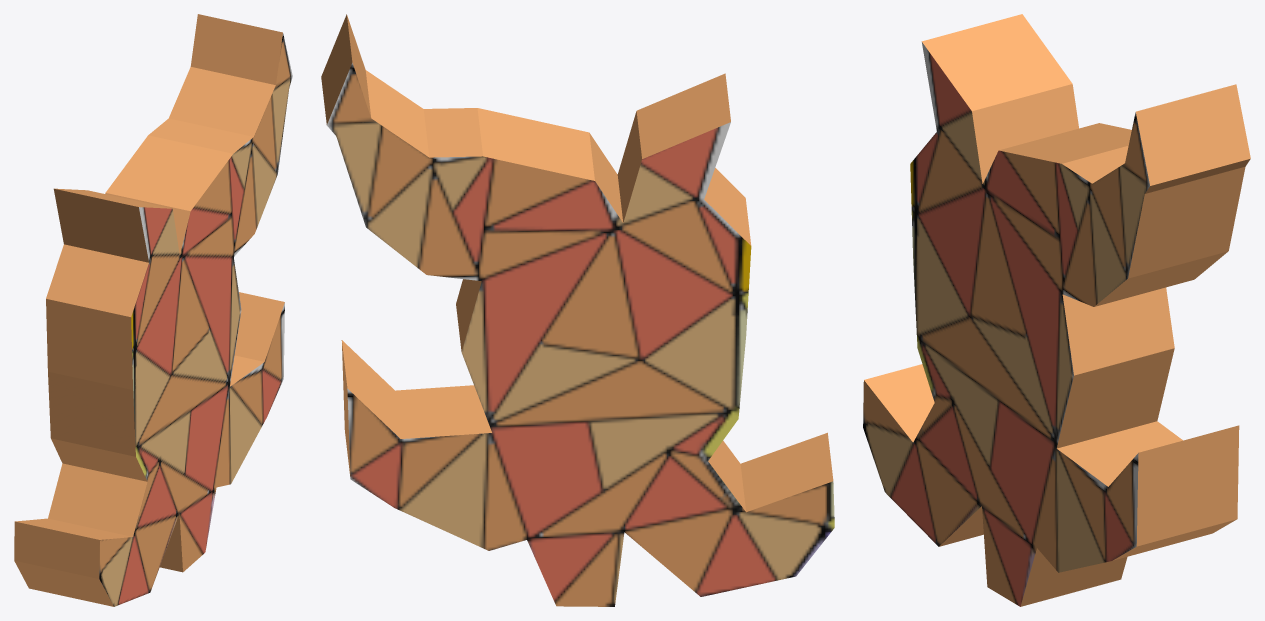
The model's file is MosaicOrangw.FBX.
3 renders of one model, left to right at view 1: azimuth 30°, elevation 25°; view 2: azimuth 150°, elevation 25°; view 3: azimuth 270°, elevation 25°, orthographic. The views are drawn at different scales.
Parts seen in each view (by area): view 1: Line002; view 2: Line002; view 3: Line002.
Part boxes in pixels (<box>): Line002: <box>14,14,292,606</box>; Line002: <box>321,14,834,606</box>; Line002: <box>863,14,1250,606</box>.
Size of the model in its own units: 9.55 by 11.83 by 7.26.
